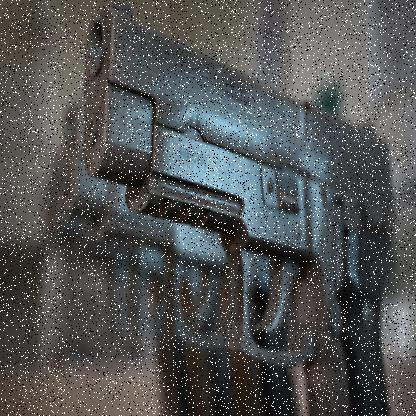pistol: (79, 7, 393, 414)
